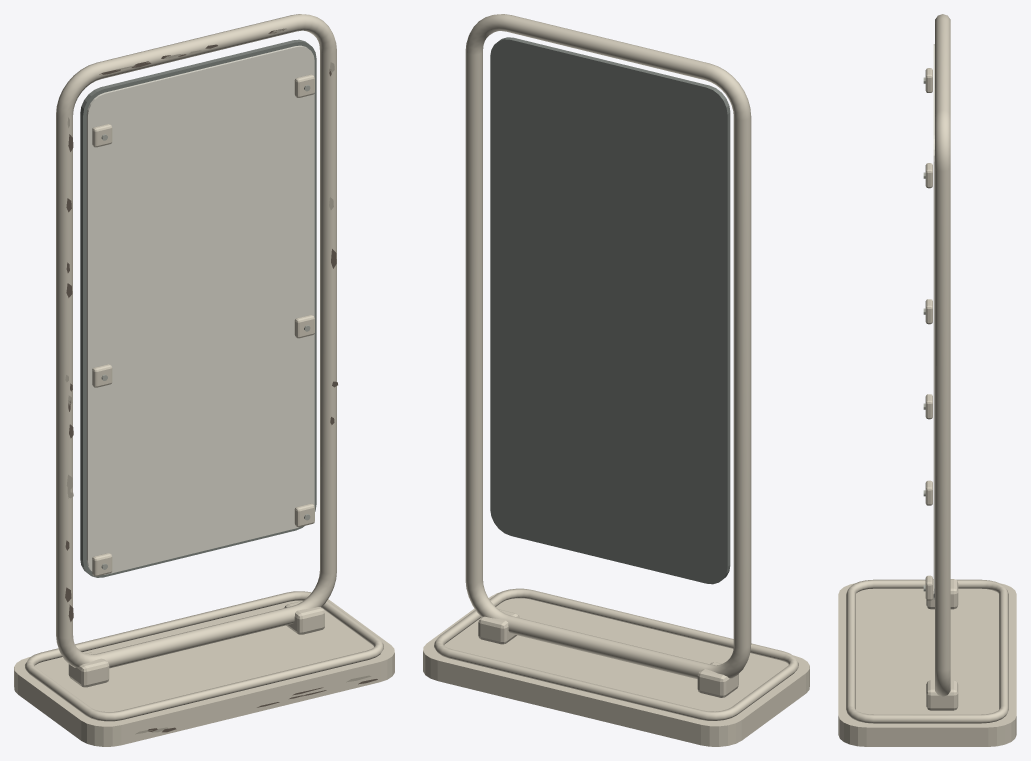
The model's file is standing_notice_sign.glb.
3 renders of one model, left to right at view 1: azimuth 30°, elevation 25°; view 2: azimuth 150°, elevation 25°; view 3: azimuth 270°, elevation 25°, orthographic. The views are drawn at different scales.
Parts seen in each view (by area): view 1: standing_notice_sign; view 2: standing_notice_sign; view 3: standing_notice_sign.
Part boxes in pixels (x1,y1,x2,y2): standing_notice_sign: (14, 14, 394, 746); standing_notice_sign: (423, 14, 809, 746); standing_notice_sign: (838, 14, 1016, 746).
Bounding box in the file's own units: 0.56 × 1.1 × 0.2901.
